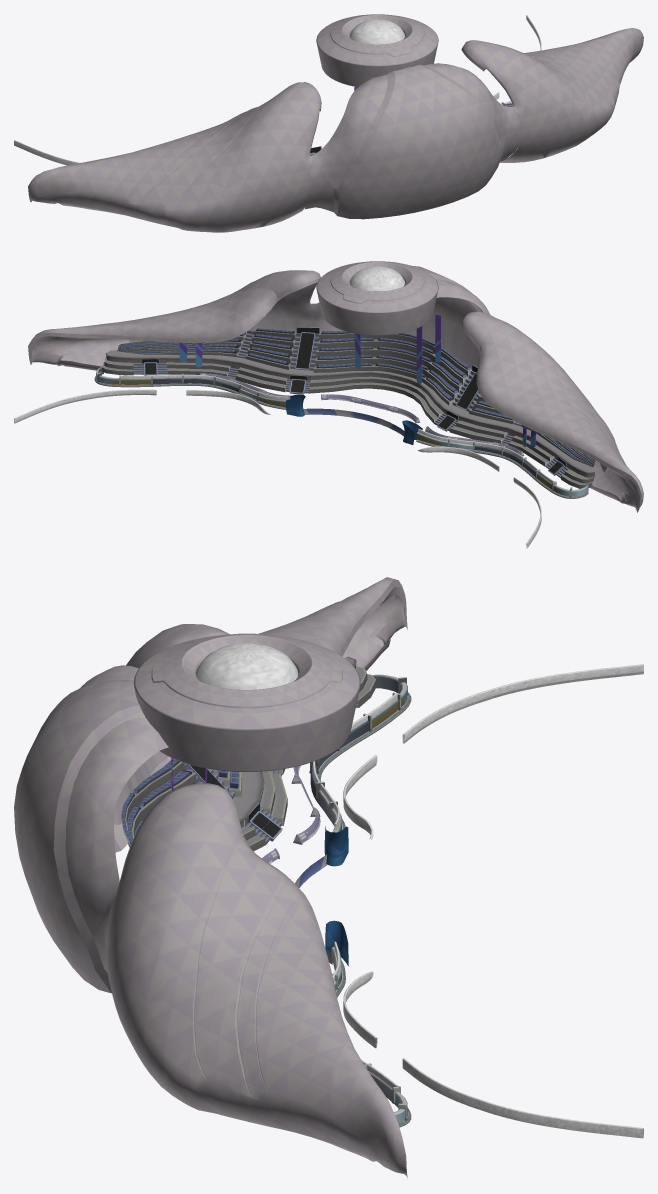
The model's file is pref_sm_4v4pointbake_WSJ_CSD_S_lv2.fbx.
3 renders of one model, top to bottom at view 1: azimuth 30°, elevation 25°; view 2: azimuth 150°, elevation 25°; view 3: azimuth 270°, elevation 25°, orthographic. The views are drawn at different scales.
Visible parts, largest first — view 1: sm_4v4pointbake_WSJ_CSD_S_f_lv2, sm_4v4pointbake_WSJ_CSD_S_e_lv2, sm_4v4pointbake_WSJ_CSD_S_i_lv2; view 2: sm_4v4pointbake_WSJ_CSD_S_f_lv2, sm_4v4pointbake_WSJ_CSD_S_h_lv2, sm_4v4pointbake_WSJ_CSD_S_e_lv2, sm_4v4pointbake_WSJ_CSD_S_i_lv2, sm_4v4pointbake_WSJ_CSD_S_c_lv2, sm_4v4pointbake_WSJ_CSD_S_g_lv2, sm_4v4pointbake_WSJ_CSD_S_d_lv2, sm_4v4pointbake_WSJ_CSD_S_a_lv2; view 3: sm_4v4pointbake_WSJ_CSD_S_f_lv2, sm_4v4pointbake_WSJ_CSD_S_e_lv2, sm_4v4pointbake_WSJ_CSD_S_i_lv2, sm_4v4pointbake_WSJ_CSD_S_h_lv2, sm_4v4pointbake_WSJ_CSD_S_c_lv2, sm_4v4pointbake_WSJ_CSD_S_d_lv2.
Part boxes in pixels (x1=…): sm_4v4pointbake_WSJ_CSD_S_f_lv2: x1=28, y1=28, x2=643, y2=232; sm_4v4pointbake_WSJ_CSD_S_e_lv2: x1=316, y1=14, x2=438, y2=87; sm_4v4pointbake_WSJ_CSD_S_i_lv2: x1=14, y1=15, x2=541, y2=165; sm_4v4pointbake_WSJ_CSD_S_f_lv2: x1=28, y1=266, x2=643, y2=512; sm_4v4pointbake_WSJ_CSD_S_h_lv2: x1=102, y1=327, x2=597, y2=488; sm_4v4pointbake_WSJ_CSD_S_e_lv2: x1=316, y1=261, x2=438, y2=335; sm_4v4pointbake_WSJ_CSD_S_i_lv2: x1=14, y1=374, x2=553, y2=548; sm_4v4pointbake_WSJ_CSD_S_c_lv2: x1=94, y1=367, x2=588, y2=498; sm_4v4pointbake_WSJ_CSD_S_g_lv2: x1=179, y1=314, x2=536, y2=447; sm_4v4pointbake_WSJ_CSD_S_d_lv2: x1=286, y1=394, x2=422, y2=444; sm_4v4pointbake_WSJ_CSD_S_a_lv2: x1=200, y1=373, x2=524, y2=456; sm_4v4pointbake_WSJ_CSD_S_f_lv2: x1=14, y1=577, x2=407, y2=1177; sm_4v4pointbake_WSJ_CSD_S_e_lv2: x1=133, y1=633, x2=360, y2=771; sm_4v4pointbake_WSJ_CSD_S_i_lv2: x1=313, y1=664, x2=643, y2=1138; sm_4v4pointbake_WSJ_CSD_S_h_lv2: x1=121, y1=656, x2=376, y2=851; sm_4v4pointbake_WSJ_CSD_S_c_lv2: x1=309, y1=674, x2=411, y2=1127; sm_4v4pointbake_WSJ_CSD_S_d_lv2: x1=295, y1=826, x2=348, y2=966.
Size of the model in its own units: 126 by 29.79 by 60.12.
